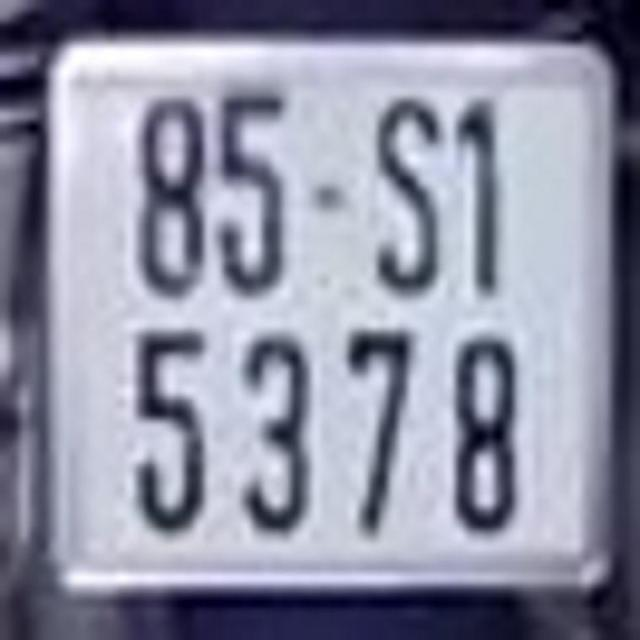1: (454, 102, 508, 292)
3: (248, 318, 312, 532)
5: (120, 320, 212, 540), (219, 90, 293, 297)
7: (343, 332, 413, 534)
8: (134, 86, 208, 300), (449, 327, 519, 520)
S: (366, 67, 446, 295)
